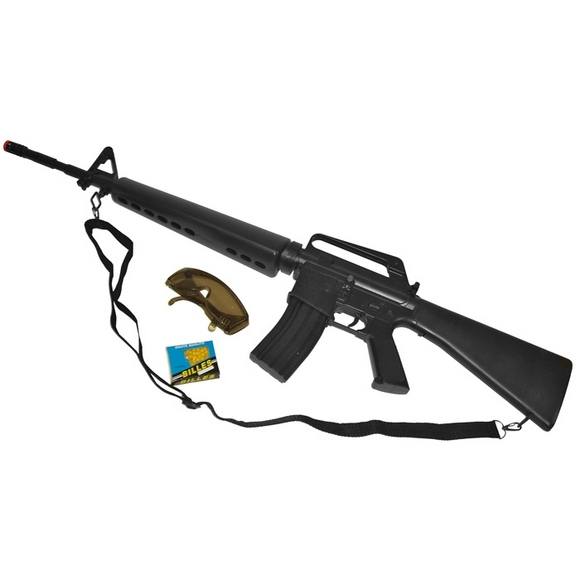rifle: (1, 141, 573, 476)
